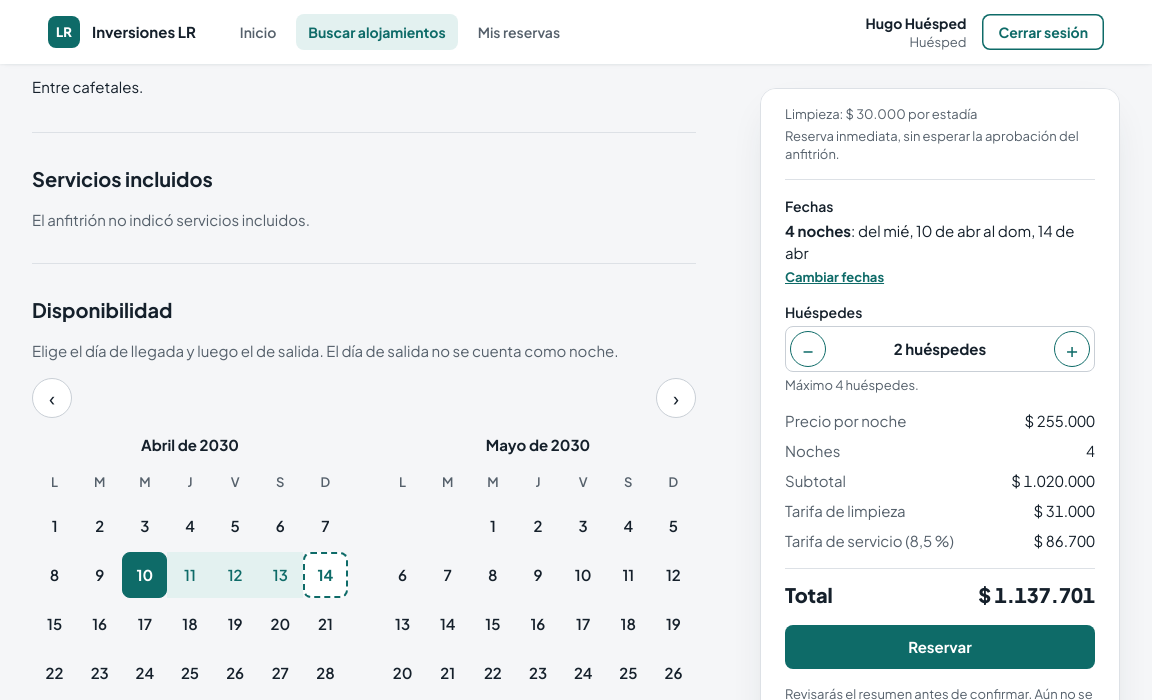
Scenario: Reservar › reserva correcta › INMEDIATA: queda pendiente de pago y la pantalla de la reserva lleva al pago
(page scrolled)
Check: the element named "Desglose del precio" is shown, box 785,410 -> 1095,609
Click the button "Reservar": click(940, 647) 785,625 -> 1095,669
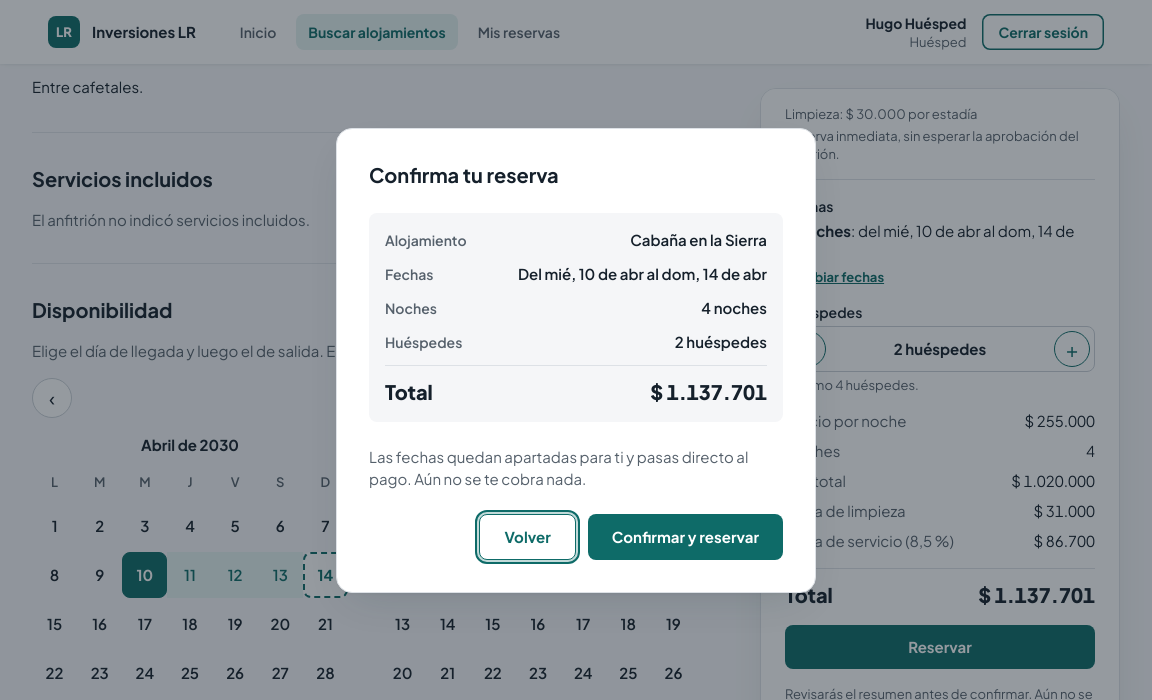
Click the button "Confirmar y reservar": click(685, 536) 588,514 -> 783,560
(page scrolled)
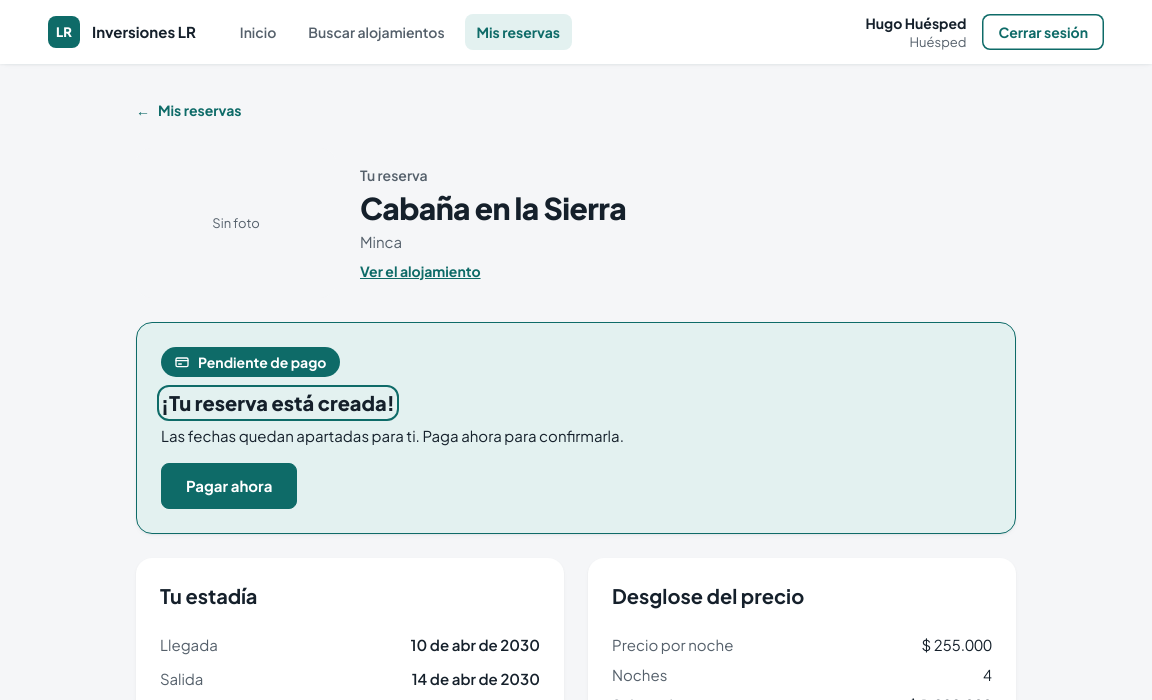
Check: the text "Pendiente de pago" is shown, box 161,347 -> 340,377
